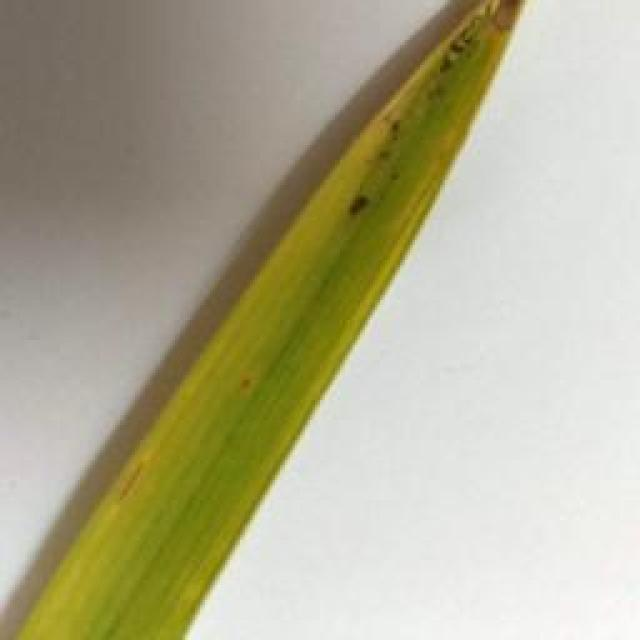Brown_Spot: (402, 1, 483, 116), (363, 108, 427, 159), (340, 184, 384, 228), (112, 459, 146, 499), (225, 368, 271, 395), (394, 173, 399, 182)
